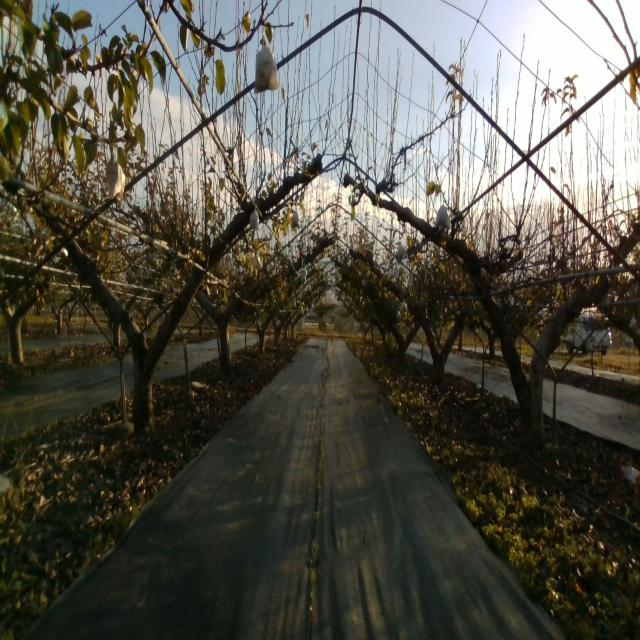pearbags: (253, 35, 280, 93), (106, 160, 126, 203), (434, 205, 452, 228), (249, 204, 260, 230)
